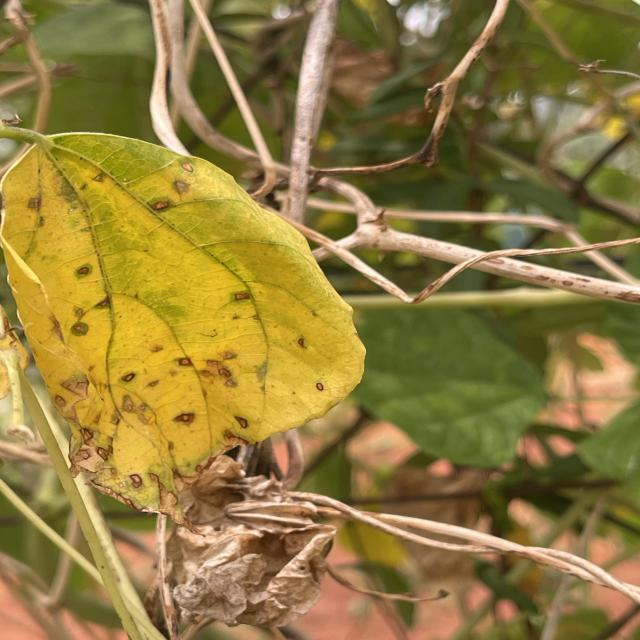Dolicos bean_cercospora leaf spot: (0, 128, 360, 498)
